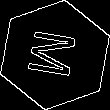M_E: (25, 28, 85, 82)
